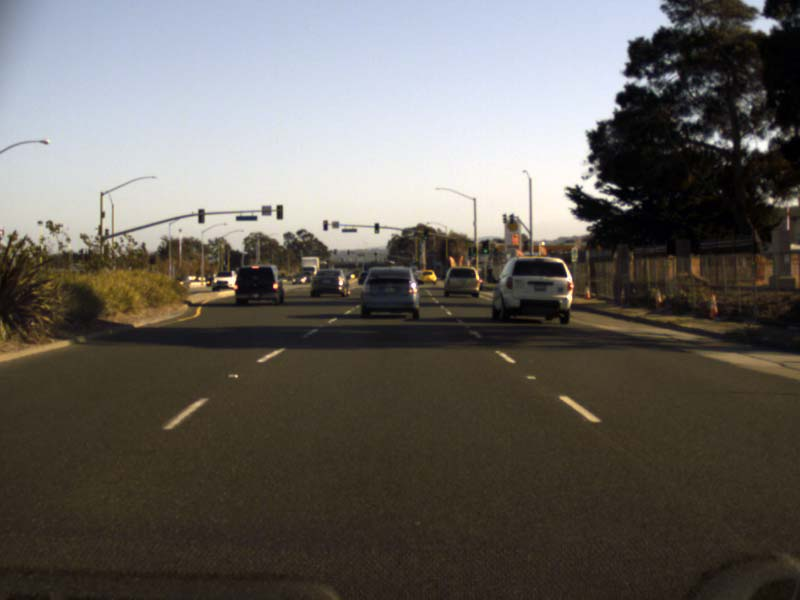Green: (481, 240, 487, 252), (423, 229, 428, 240), (374, 222, 378, 233)
Red: (322, 220, 326, 230)
